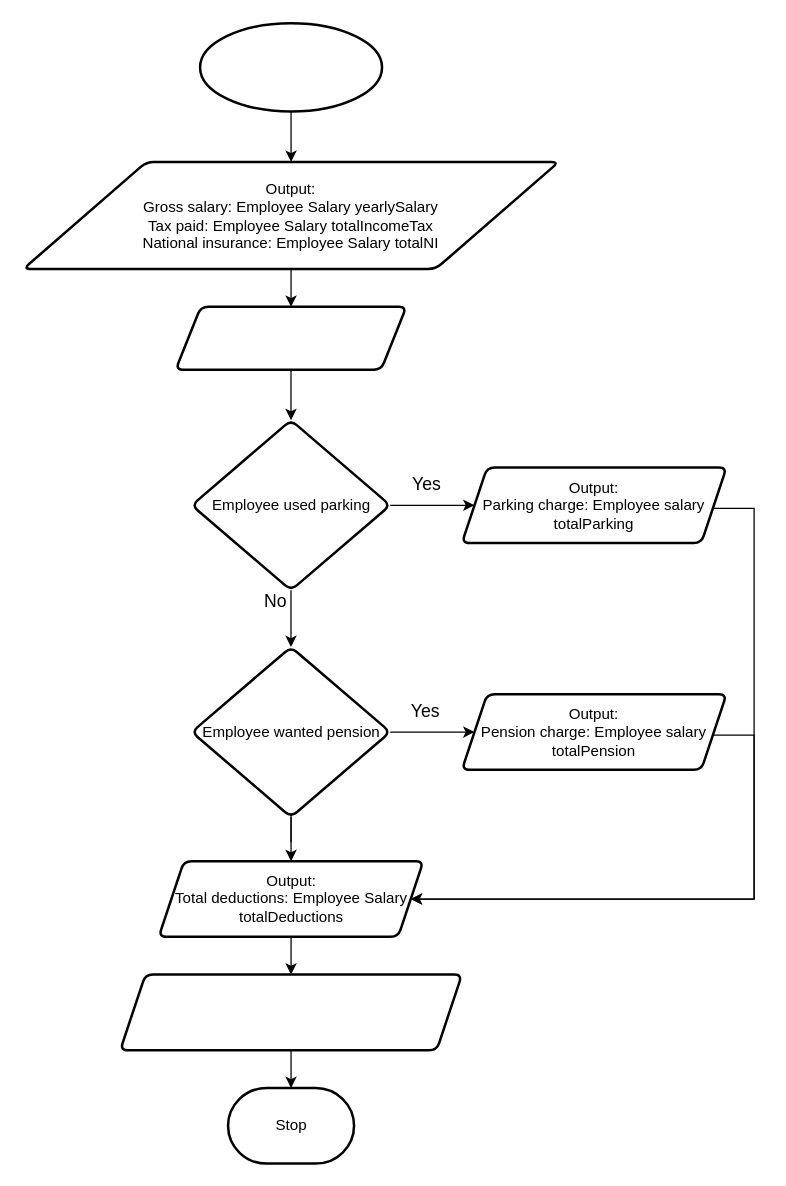
The diagram is 786 pixels wide and 1186 high, and some of its shapes have lost their labels. Each missing label, with the centre of its shape:
"Output: Optional deductions" goes at point 290,337.
"Output: Yearly net pay Employee Salary netSalary" goes at point 290,1012.
"UserInterface displayEmployeeSalary" goes at point 290,66.
